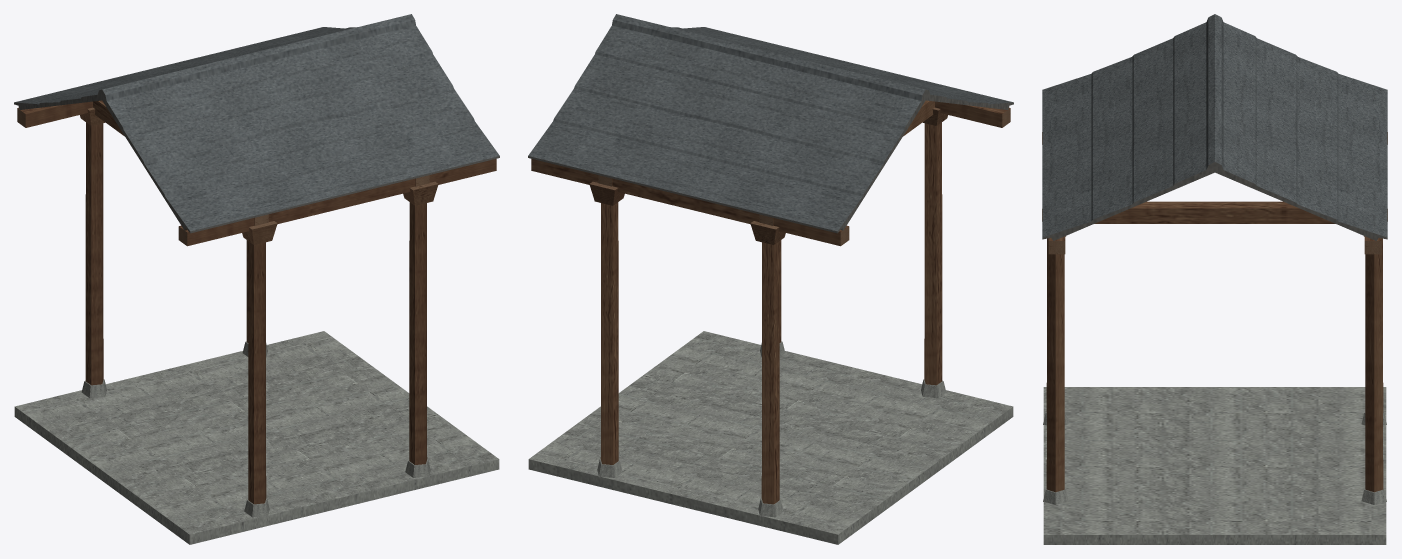
Rendered from GalleryStraight_LOD2.fbx.
3 views of the same model, side by side, from view 1: azimuth 30°, elevation 25°; view 2: azimuth 150°, elevation 25°; view 3: azimuth 270°, elevation 25° (orthographic). The views are drawn at different scales.
Parts seen in each view (by area): view 1: GalleryStraight.001; view 2: GalleryStraight.001; view 3: GalleryStraight.001.
Boxes of the visible parts, x1,y1,x2,y2 form: GalleryStraight.001: (14, 14, 499, 544); GalleryStraight.001: (528, 14, 1013, 544); GalleryStraight.001: (1042, 14, 1387, 544).
Size of the model in its own units: 3 by 3.62 by 2.97.
Materials: 1 (1 with a texture image).
